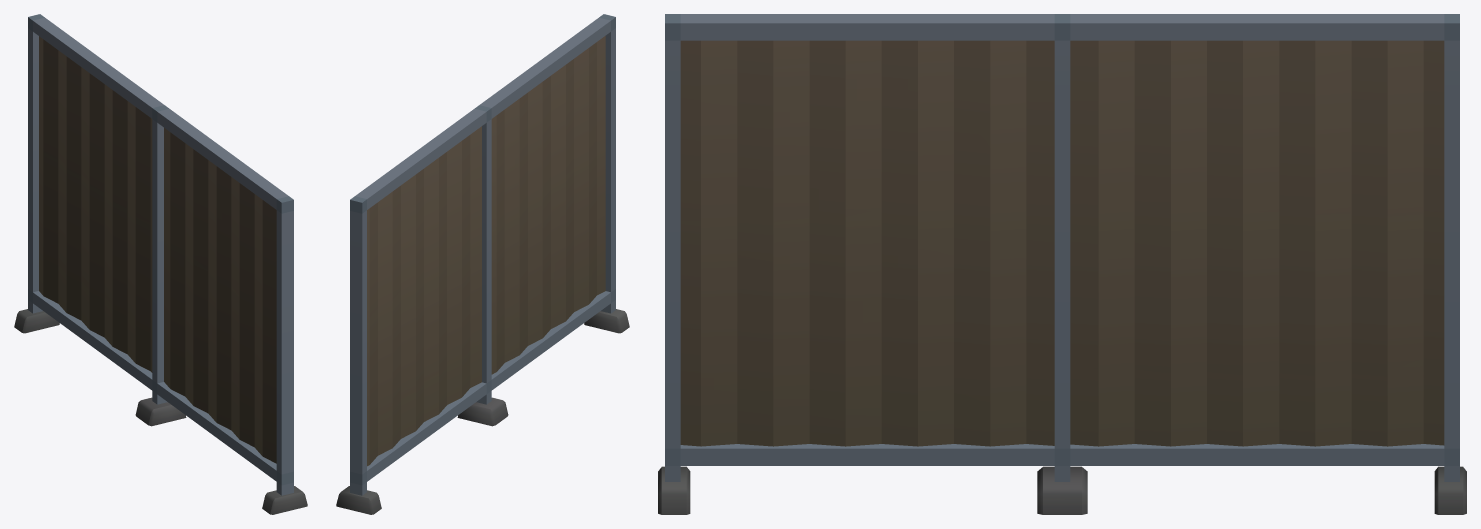
The model's file is Barier_1_2.fbx.
The picture shows the model from 3 angles, left to right: view 1: azimuth 30°, elevation 25°; view 2: azimuth 150°, elevation 25°; view 3: azimuth 270°, elevation 25°; orthographic projection. The views are drawn at different scales.
Parts seen in each view (by area): view 1: Barier_1_2; view 2: Barier_1_2; view 3: Barier_1_2.
Boxes of the visible parts, box(x1,y1,x2,y2) form: Barier_1_2: box(14, 14, 307, 514); Barier_1_2: box(336, 14, 629, 514); Barier_1_2: box(658, 14, 1466, 514).
Bounding box in the file's own units: 34.35 × 268 × 407.
